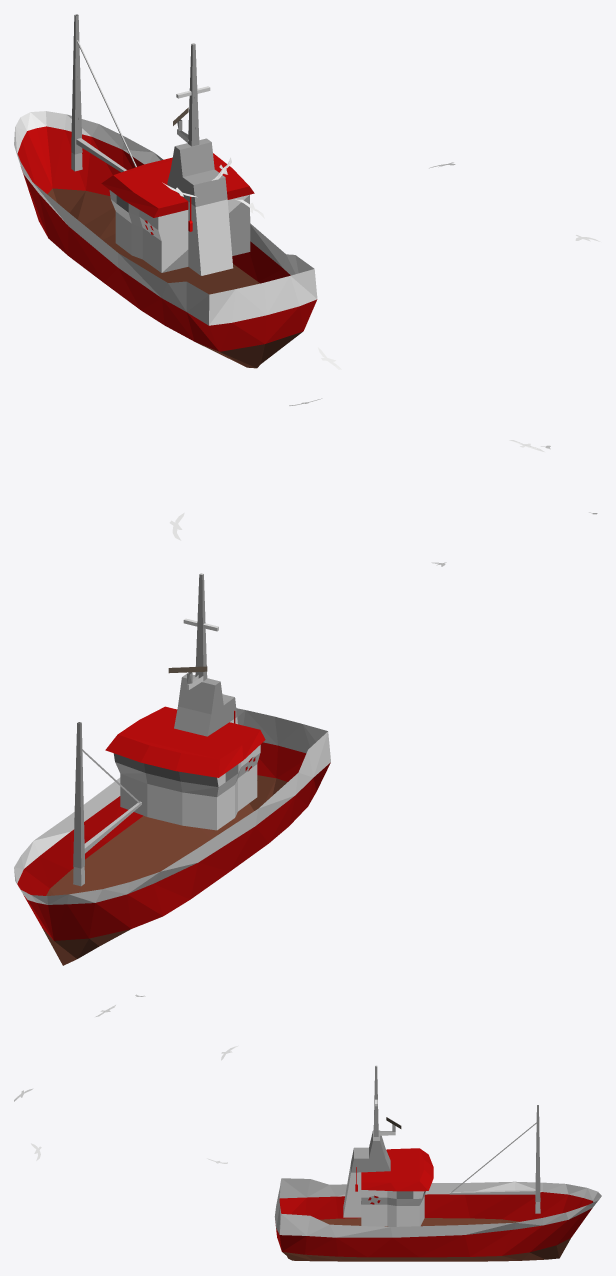
The model's file is fish01L.dae.
The picture shows the model from 3 angles, top to bottom: view 1: azimuth 30°, elevation 25°; view 2: azimuth 150°, elevation 25°; view 3: azimuth 270°, elevation 25°; orthographic projection. The views are drawn at different scales.
Parts seen in each view (by area): view 1: Hull (×3), Bridge (×3), o39 (×2), o32, o42; view 2: Hull (×3), Bridge (×3), o39 (×2), o45, o42; view 3: Hull (×3), Bridge (×3), o39, o42, Mast.
Boxes of the visible parts, left/top/right/bottom form: Hull (×3): left=14, top=111, right=317, bottom=368; Bridge (×3): left=101, top=153, right=254, bottom=275; o39 (×2): left=167, top=44, right=227, bottom=206; o32: left=162, top=195, right=250, bottom=272; o42: left=71, top=15, right=82, bottom=154; Hull (×3): left=14, top=708, right=330, bottom=965; Bridge (×3): left=105, top=706, right=265, bottom=830; o39 (×2): left=178, top=574, right=236, bottom=733; o45: left=174, top=697, right=237, bottom=736; o42: left=73, top=723, right=84, bottom=868; Hull (×3): left=274, top=1178, right=601, bottom=1261; Bridge (×3): left=343, top=1148, right=433, bottom=1226; o39: left=351, top=1130, right=389, bottom=1172; o42: left=535, top=1106, right=540, bottom=1201; Mast: left=449, top=1189, right=535, bottom=1194.
Size of the model in its own units: 19.92 by 46 by 18.92.
